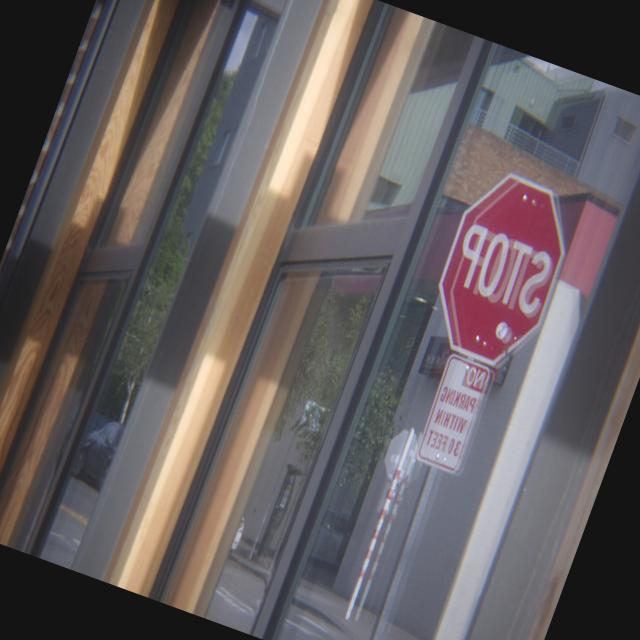Vehicle: (71, 414, 126, 491)
